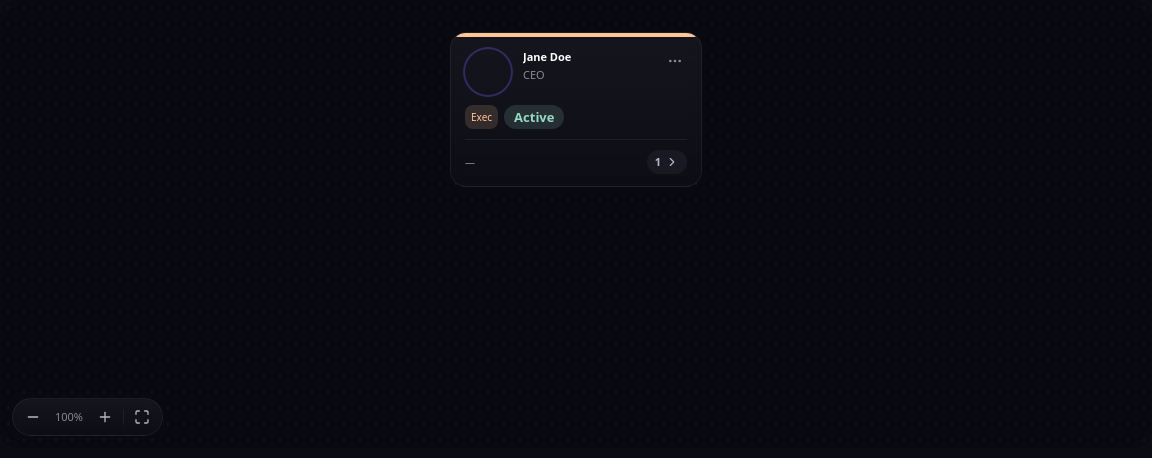
Test: TreeView › renders roots then lazy-loads children on expand
Expected: the text "Jane Doe" is shown, [523,49,571,64]
Click the button named "expand jane doe" at (667,162), box [647,150,687,174]
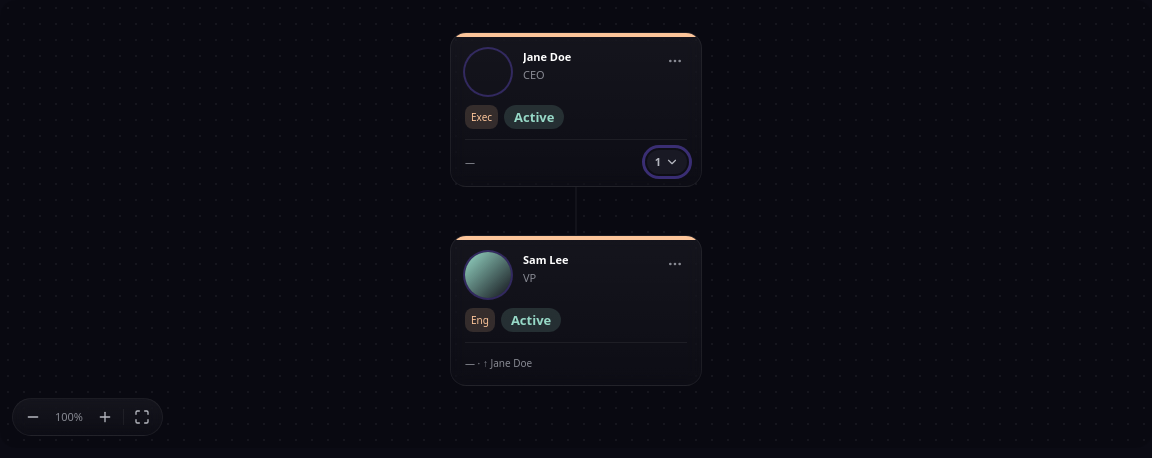
Expected: the text "Sam Lee" is shown, [523,252,569,267]
